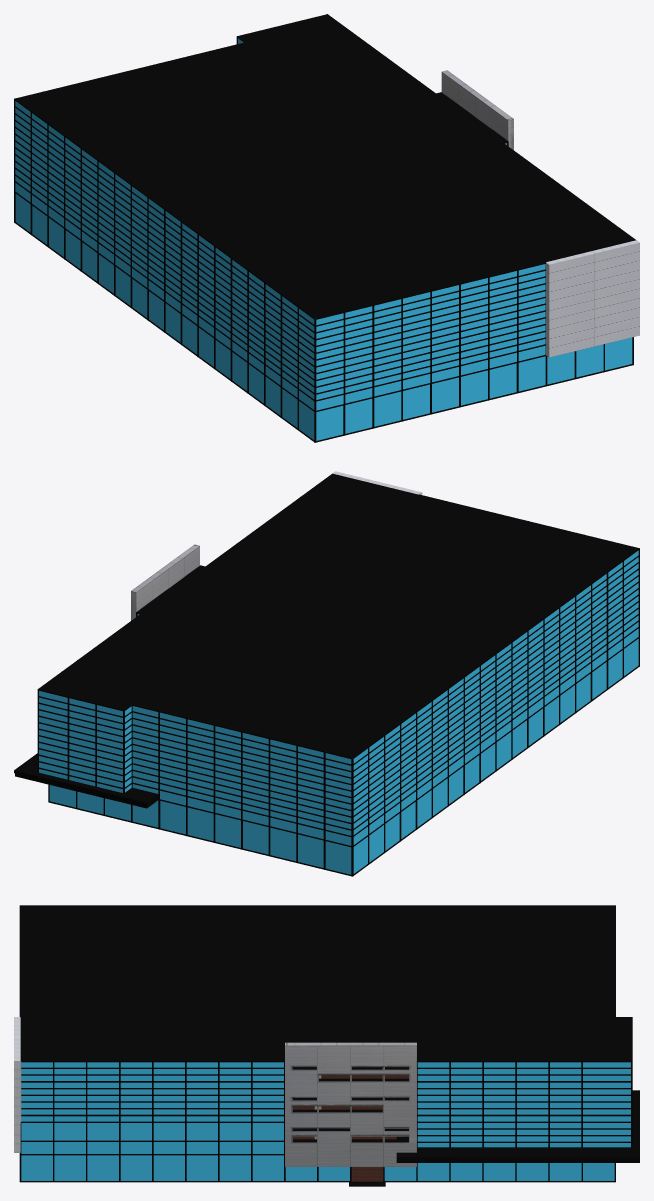
Rendered from Library.glb.
The picture shows the model from 3 angles, top to bottom: view 1: azimuth 30°, elevation 25°; view 2: azimuth 150°, elevation 25°; view 3: azimuth 270°, elevation 25°; orthographic projection. The views are drawn at different scales.
Parts seen in each view (by area): view 1: Library; view 2: Library; view 3: Library.
Part boxes in pixels (x1,y1,x2,y2): Library: (14,14,639,442); Library: (14,471,639,876); Library: (14,905,639,1186).
Size of the model in its own units: 24.12 by 9.73 by 38.51.
11 materials, 11 textured.
